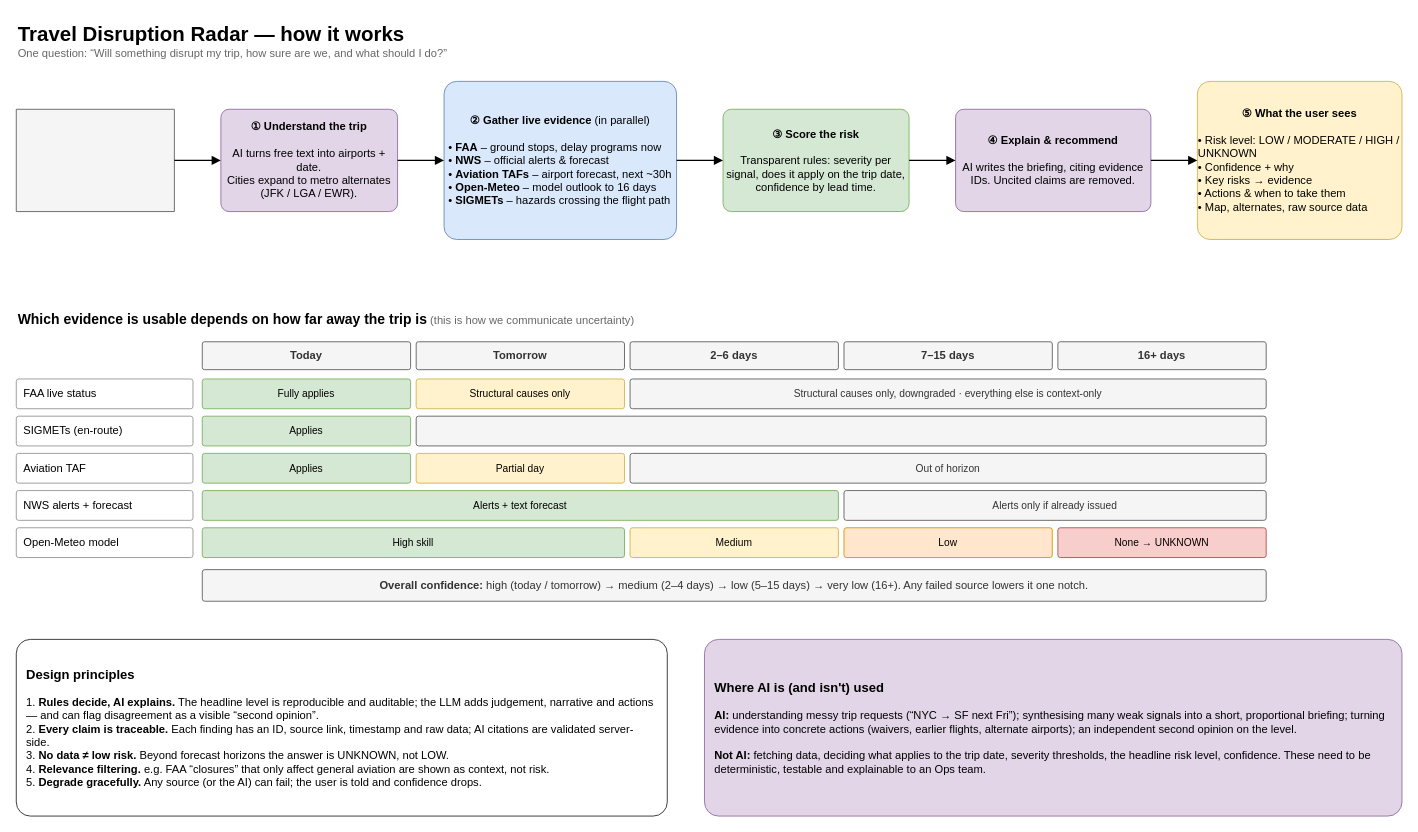
Some shapes in this 1418 by 832 pixel diagram are drawn without their labels. Each missing label, with the box of its shape:
Not applicable (valid for hours): (415, 415, 1266, 446)
Traveler / Ops “NYC to San Francisco tomorrow”: (15, 108, 174, 212)
